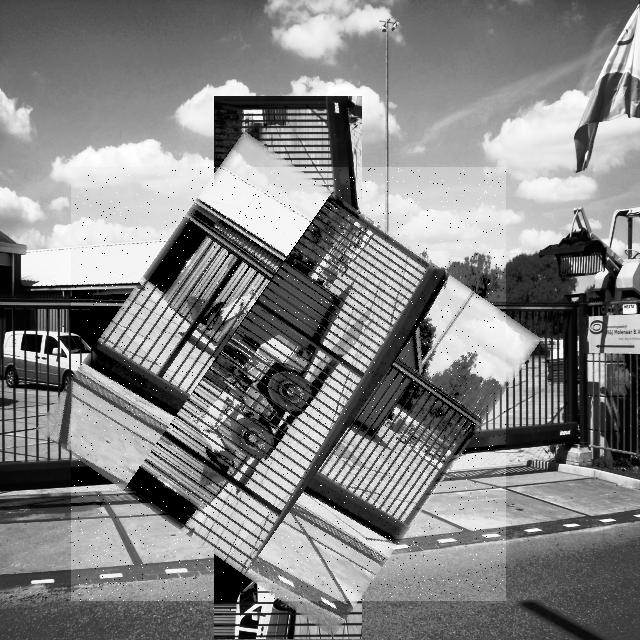fences: (71, 167, 506, 601)
